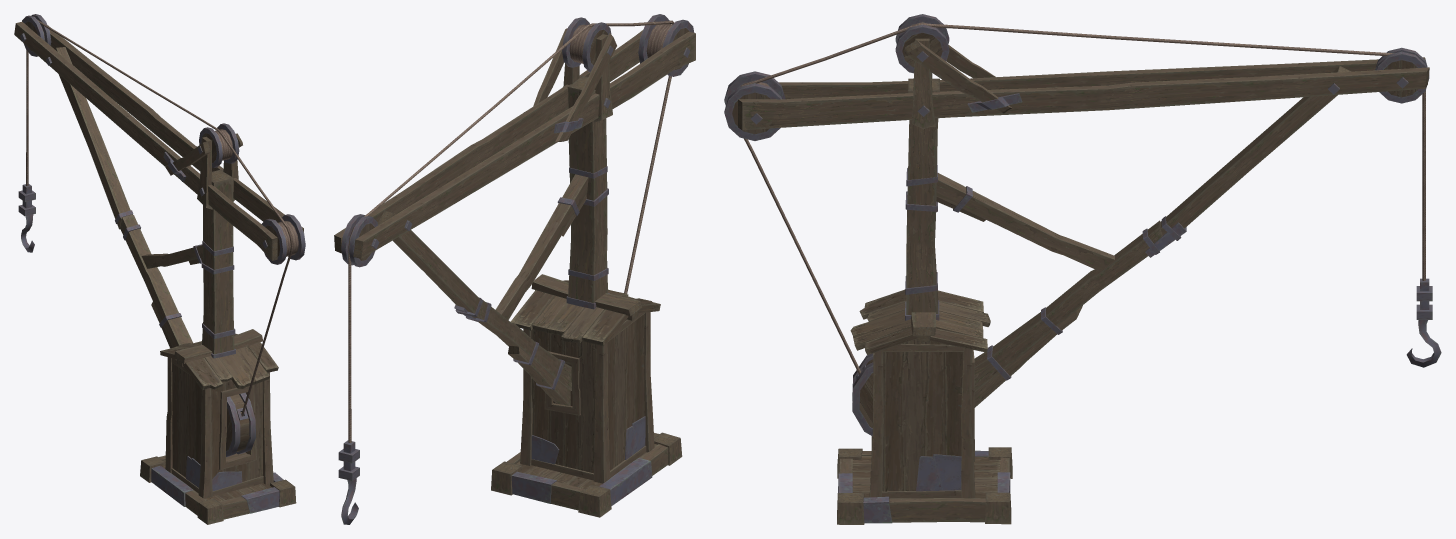
File: Homeworld_Exterior_Cyjy_Thing_Prop_ChasmMechanical_02_Lod0.fbx
3 renders of one model, left to right at view 1: azimuth 30°, elevation 25°; view 2: azimuth 150°, elevation 25°; view 3: azimuth 270°, elevation 25°, orthographic. The views are drawn at different scales.
Visible parts, largest first — view 1: Area_Common_Build_Mine_Tadiao_02_Lod0; view 2: Area_Common_Build_Mine_Tadiao_02_Lod0; view 3: Area_Common_Build_Mine_Tadiao_02_Lod0.
Boxes of the visible parts, left/top/right/bottom form: Area_Common_Build_Mine_Tadiao_02_Lod0: left=14, top=14, right=305, bottom=524; Area_Common_Build_Mine_Tadiao_02_Lod0: left=334, top=14, right=695, bottom=524; Area_Common_Build_Mine_Tadiao_02_Lod0: left=724, top=14, right=1441, bottom=524.
Size of the model in its own units: 3.13 by 12.15 by 16.59.
